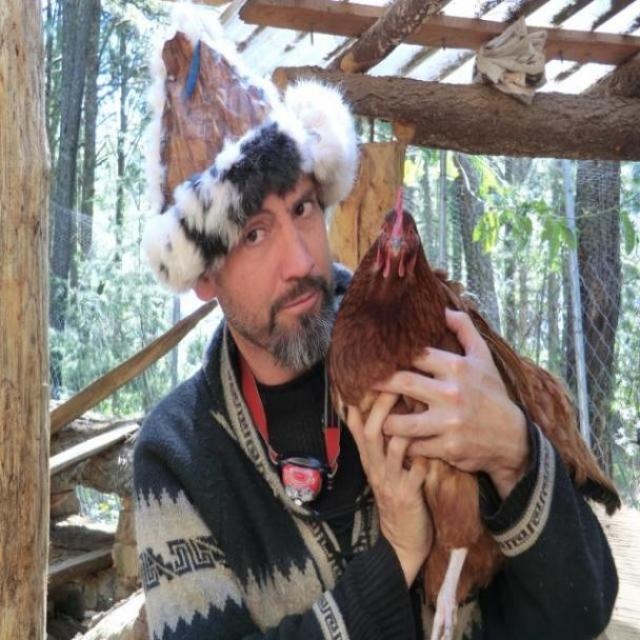Chicken: (310, 208, 601, 611)
